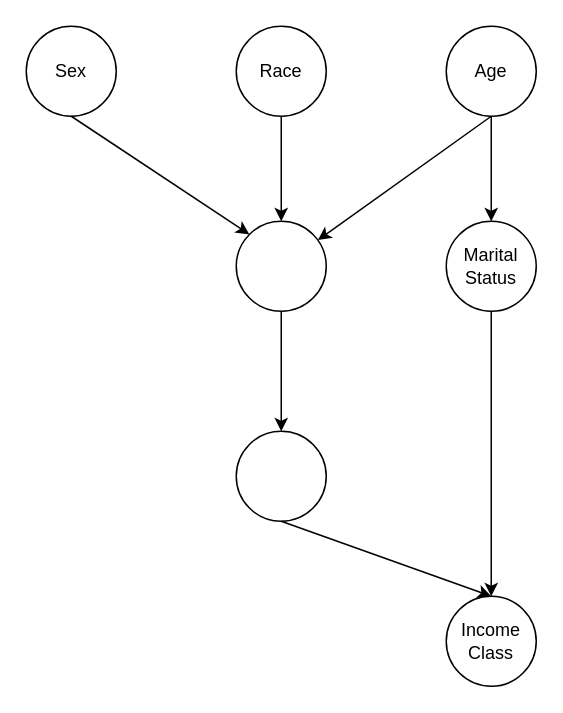
The diagram is 563 pixels wide and 713 high, and some of its shapes have lost their labels. The shapes that lost their labels are listed below. From the top down, each one's box as (x1, y1, x2, y2) in pixels, then its label:
(235, 220, 326, 311): Education Number
(235, 430, 326, 521): Occupation
